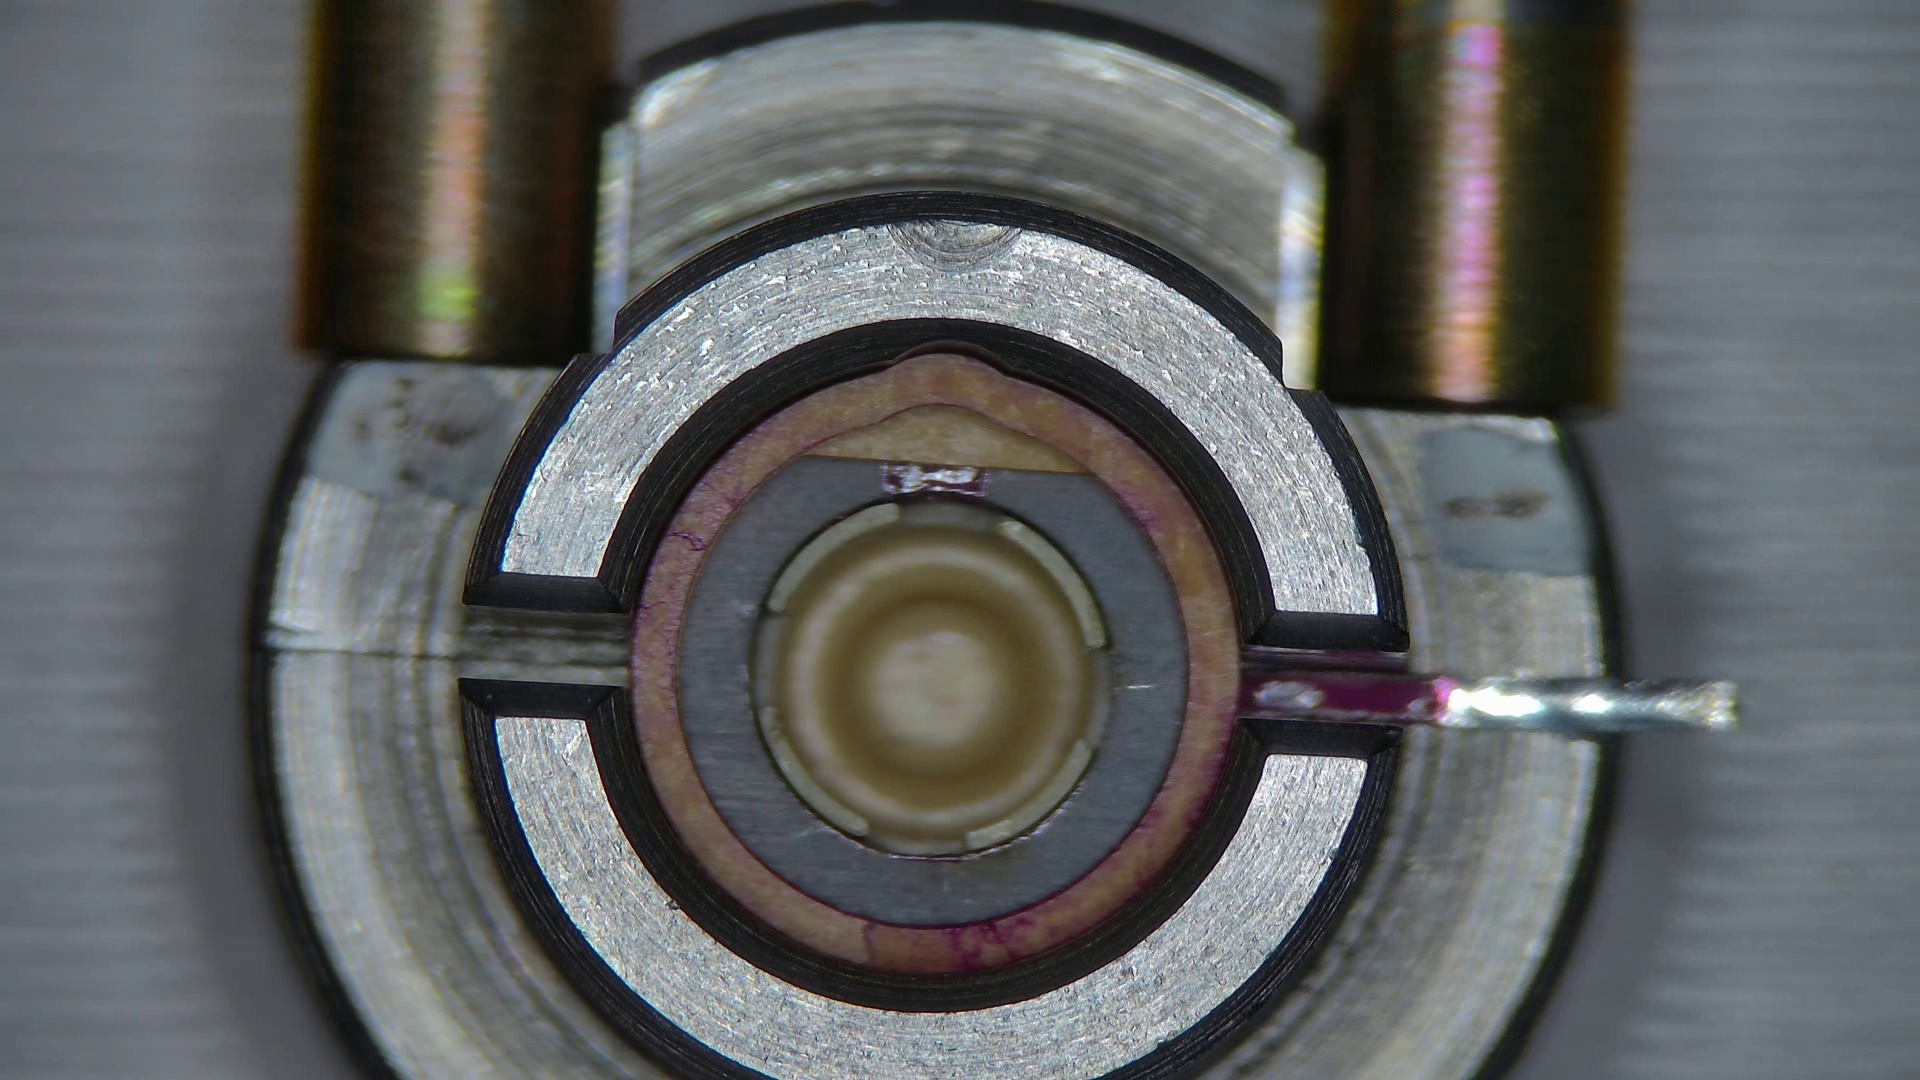GreyOring: (630, 351, 1241, 973)
YellowOring: (679, 463, 1184, 923)
redOring: (815, 405, 1081, 471)
